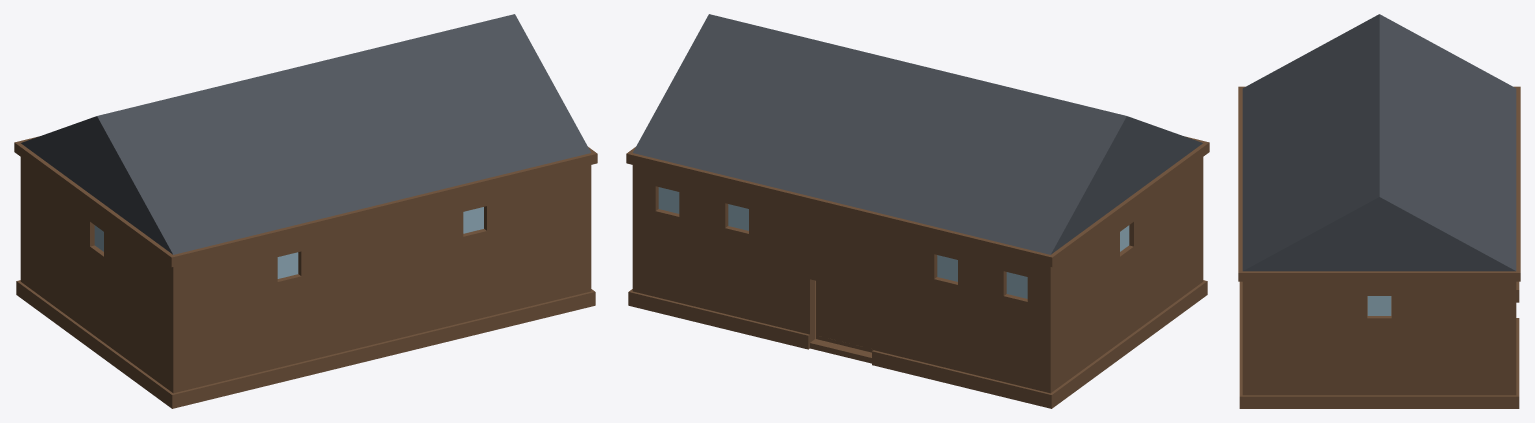
The picture shows the model from 3 angles, left to right: view 1: azimuth 30°, elevation 25°; view 2: azimuth 150°, elevation 25°; view 3: azimuth 270°, elevation 25°; orthographic projection. The views are drawn at different scales.
Visible parts, largest first — view 1: roof_slate, body_timber, trim_timber; view 2: roof_slate, body_timber, trim_timber, door_timber; view 3: roof_slate, body_timber, trim_timber, glass_glass.
Part boxes in pixels (x1,y1,x2,y2): roof_slate: [21, 14, 590, 254]; body_timber: [20, 157, 591, 393]; trim_timber: [14, 136, 597, 408]; roof_slate: [633, 14, 1202, 254]; body_timber: [632, 157, 1203, 393]; trim_timber: [626, 136, 1209, 408]; door_timber: [816, 281, 873, 352]; roof_slate: [1242, 14, 1516, 271]; body_timber: [1242, 281, 1516, 395]; trim_timber: [1238, 86, 1520, 408]; glass_glass: [1367, 296, 1391, 315].
Size of what is drawn, in the model's own units: 16.1 by 8.5 by 10.3.
